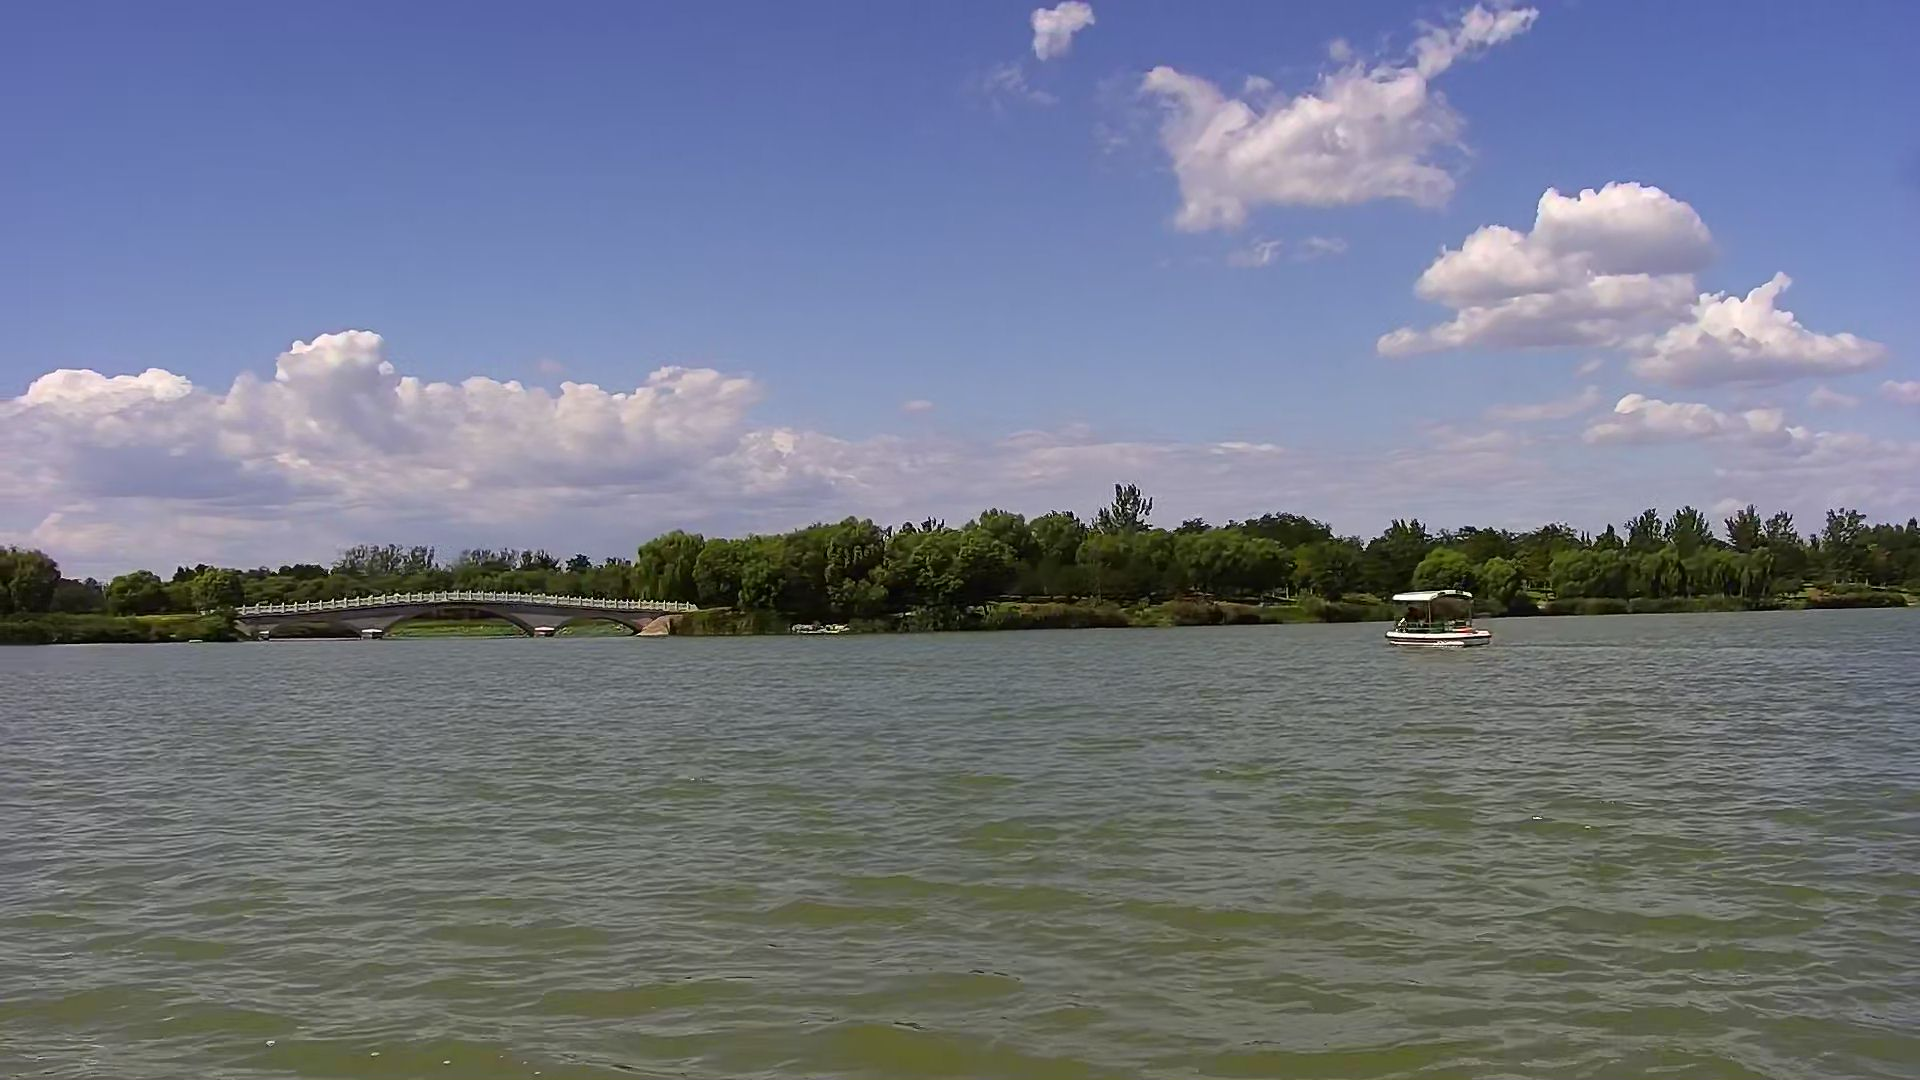boat: (1381, 589, 1495, 647)
bridge: (249, 593, 669, 638)
